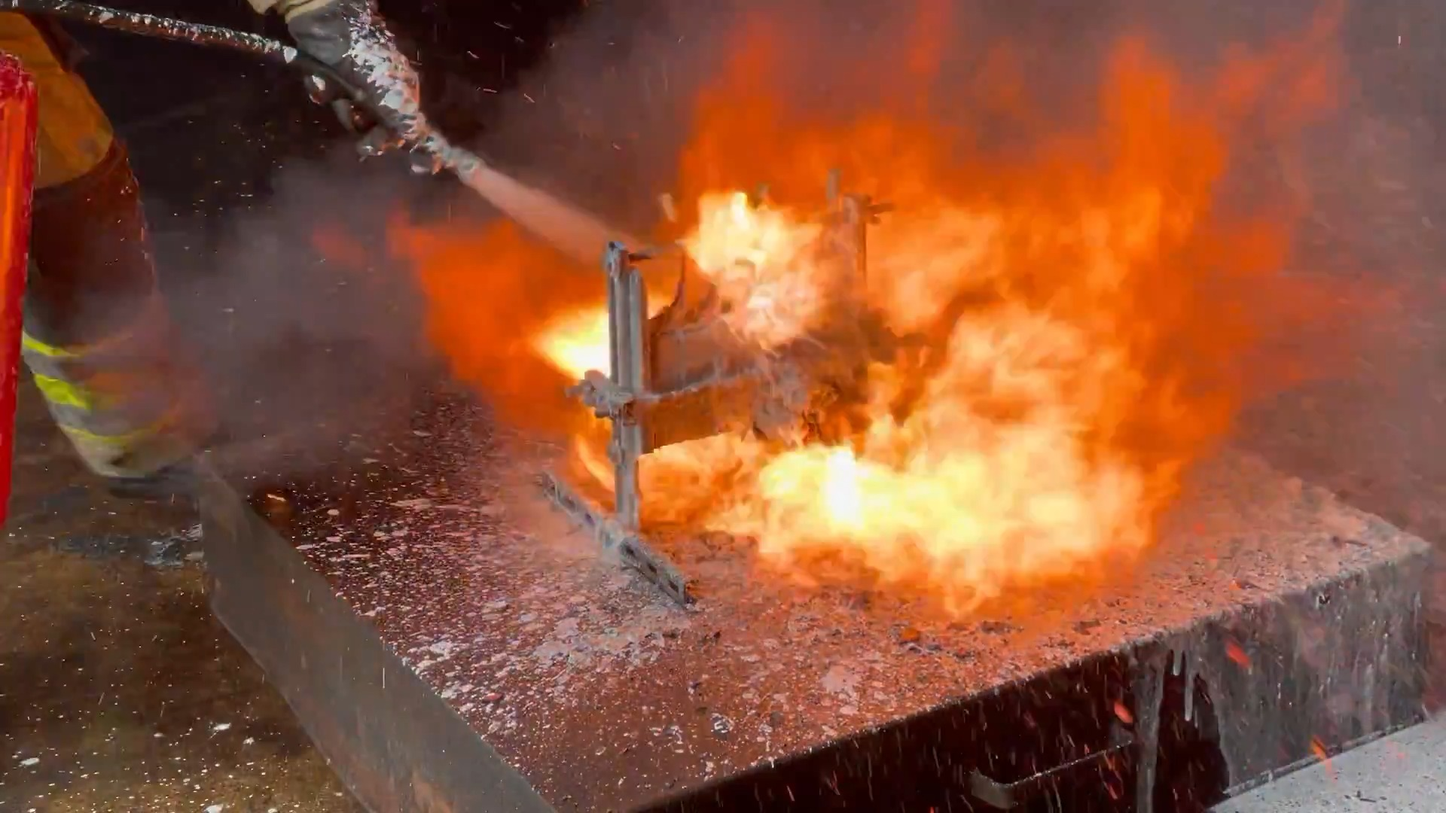fire: (378, 23, 1282, 634)
smoke: (468, 0, 1445, 510)
